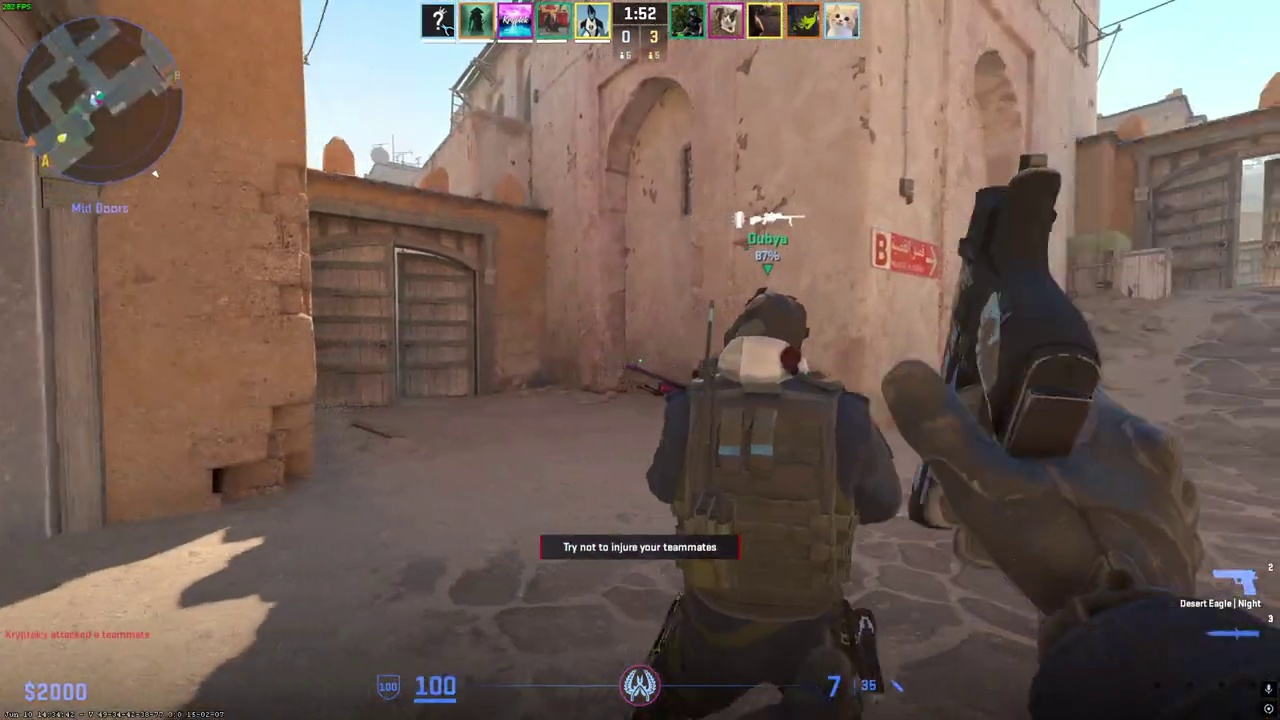CT: (646, 287, 885, 720)
